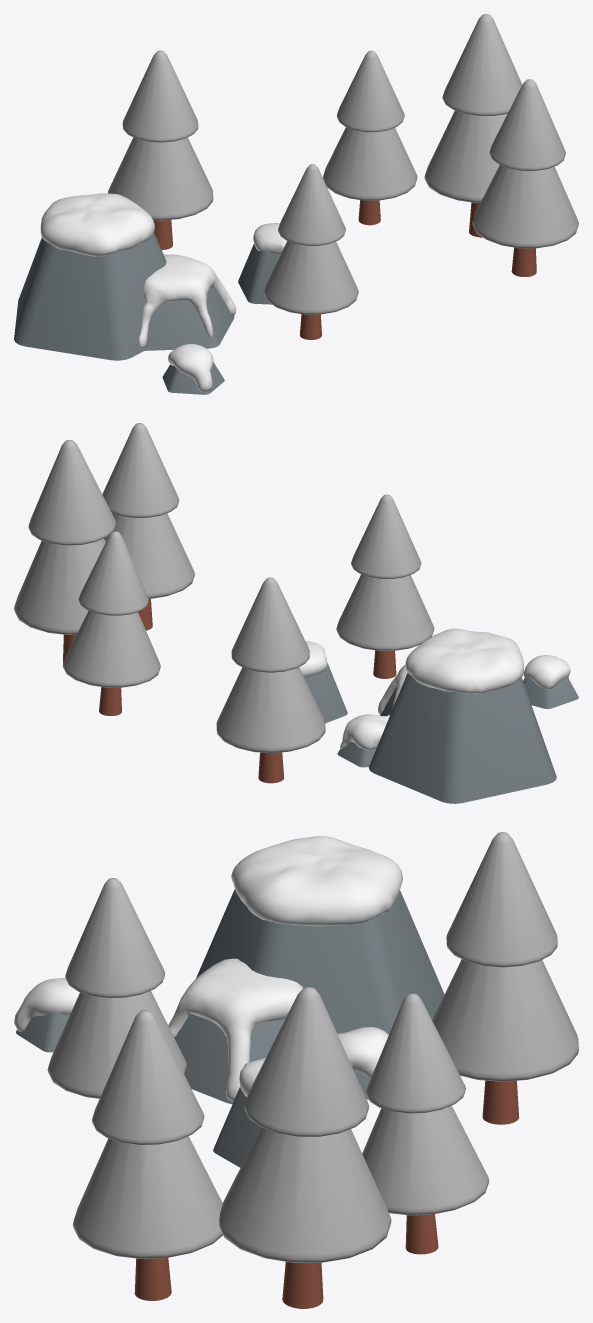
The model's file is detail_forestA.fbx.
The picture shows the model from 3 angles, top to bottom: view 1: azimuth 30°, elevation 25°; view 2: azimuth 150°, elevation 25°; view 3: azimuth 270°, elevation 25°; orthographic projection. The views are drawn at different scales.
Parts seen in each view (by area): view 1: detail_forestA.002, detail_forestA, SnowBall.001, detail_forestA.001; view 2: detail_forestA.002, detail_forestA, SnowBall.001, detail_forestA.001; view 3: detail_forestA.002, detail_forestA, SnowBall.001, detail_forestA.001.
Boxes of the visible parts, left/top/right/bottom form: detail_forestA.002: left=108, top=14, right=578, bottom=314; detail_forestA: left=14, top=232, right=280, bottom=394; SnowBall.001: left=40, top=193, right=286, bottom=391; detail_forestA.001: left=153, top=200, right=536, bottom=339; detail_forestA.002: left=14, top=423, right=434, bottom=753; detail_forestA: left=304, top=663, right=578, bottom=803; SnowBall.001: left=299, top=628, right=570, bottom=750; detail_forestA.001: left=63, top=599, right=396, bottom=783; detail_forestA.002: left=47, top=832, right=578, bottom=1262; detail_forestA: left=16, top=889, right=444, bottom=1167; SnowBall.001: left=14, top=836, right=402, bottom=1101; detail_forestA.001: left=134, top=1080, right=518, bottom=1308.
Bounding box in the file's own units: 184 × 73.39 × 119.
